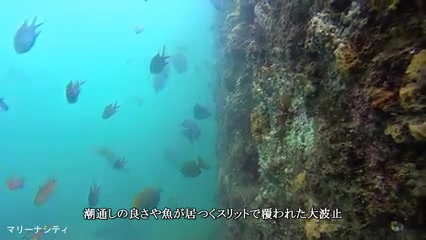mezina: (8, 16, 46, 58), (139, 44, 172, 75)
smallfish: (30, 175, 59, 207)
